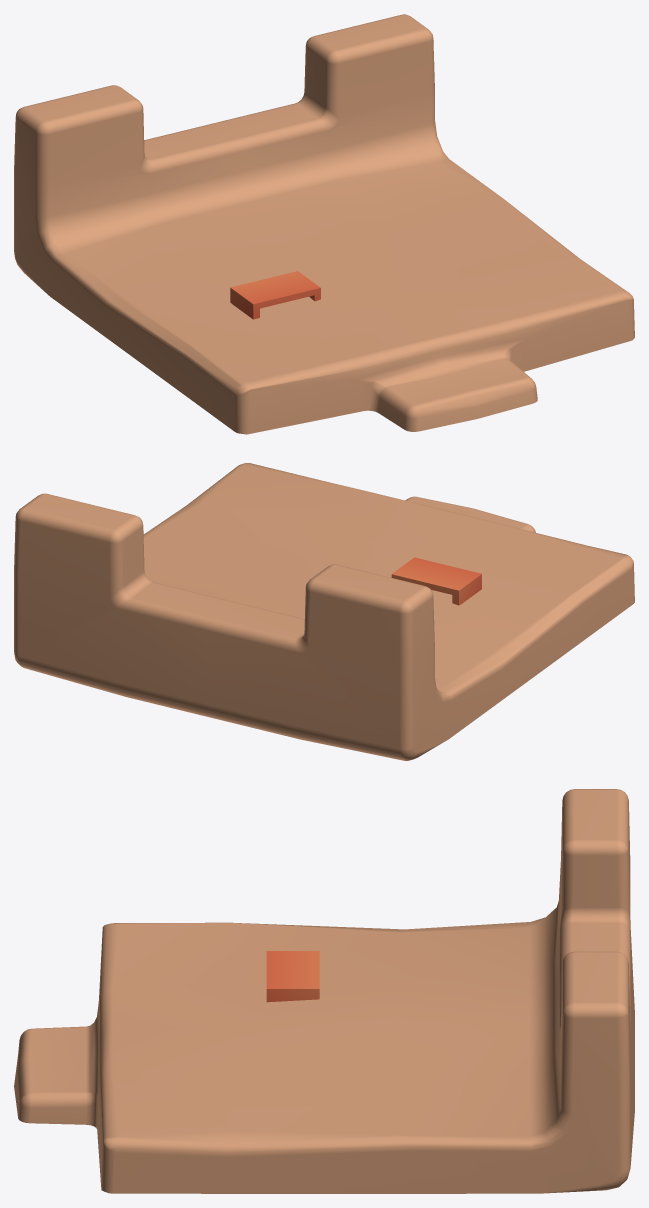
Rendered from kitchen.fbx.
3 renders of one model, top to bottom at view 1: azimuth 30°, elevation 25°; view 2: azimuth 150°, elevation 25°; view 3: azimuth 270°, elevation 25°, orthographic. The views are drawn at different scales.
Visible parts, largest first — view 1: pCube2, pCube3; view 2: pCube2, pCube3; view 3: pCube2, pCube3.
Boxes of the visible parts, x1,y1,x2,y2 form: pCube2: (14, 14, 634, 434); pCube3: (230, 271, 320, 319); pCube2: (14, 463, 634, 760); pCube3: (391, 557, 481, 605); pCube2: (14, 789, 634, 1193); pCube3: (266, 951, 319, 1002).
Size of the model in its own units: 649 by 257 by 762.
1 material, 1 textured.
